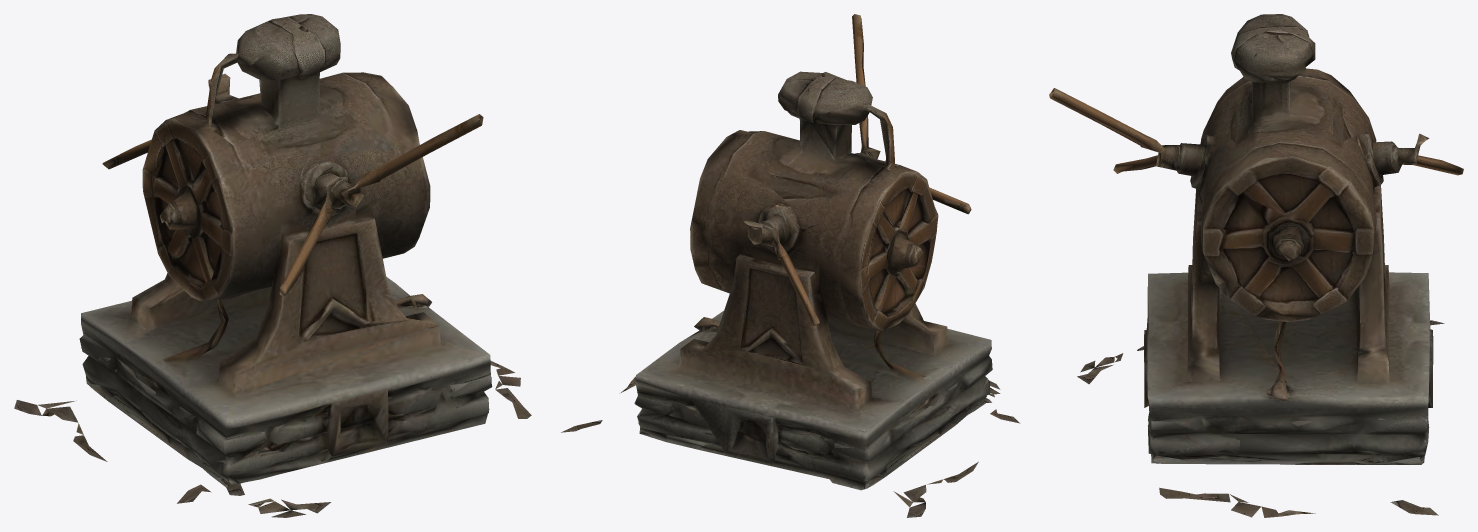
The model's file is winch.glb.
3 renders of one model, left to right at view 1: azimuth 30°, elevation 25°; view 2: azimuth 150°, elevation 25°; view 3: azimuth 270°, elevation 25°, orthographic. The views are drawn at different scales.
Size of the model in its own units: 1.63 by 1.5 by 1.46.
1 material, 1 textured.
